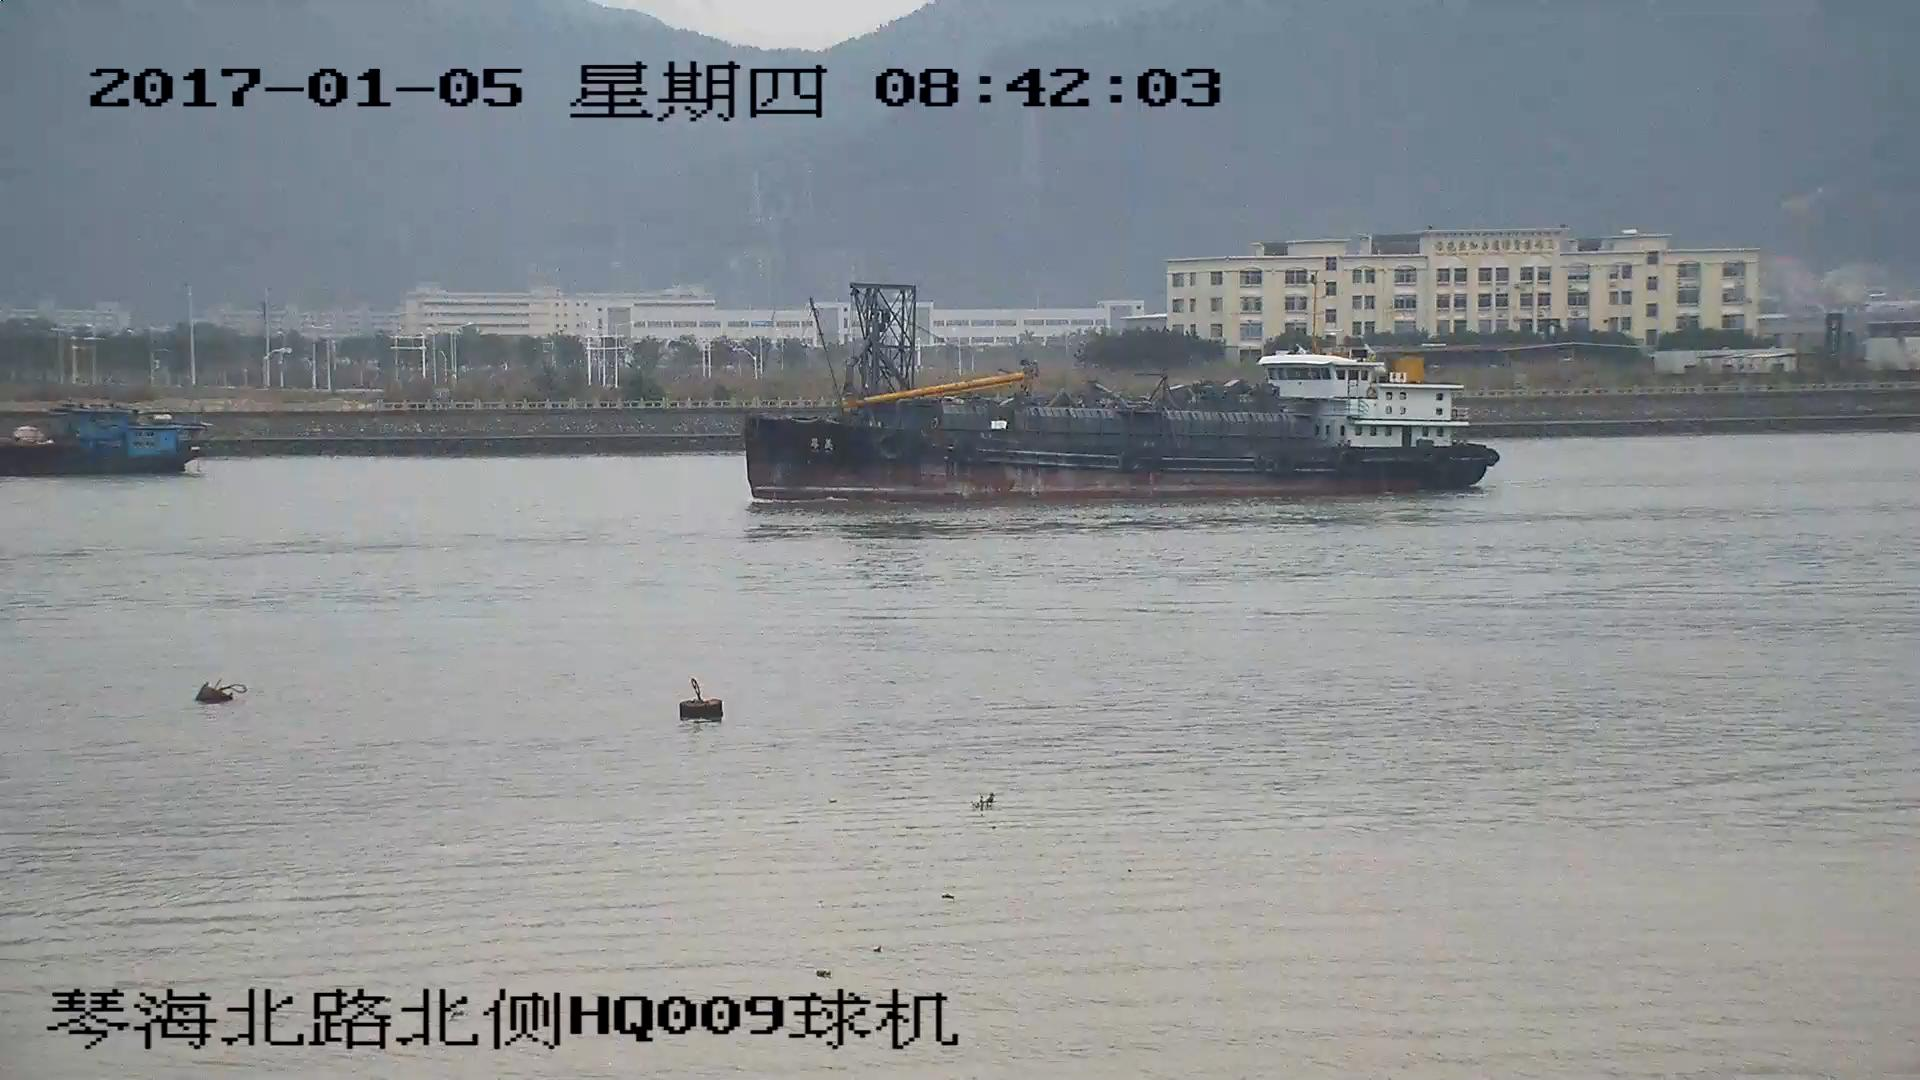bulk cargo carrier: (733, 287, 1501, 504)
